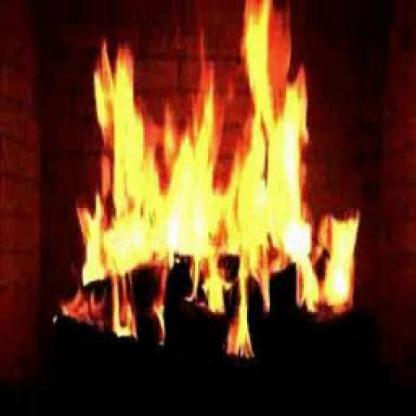fire: (37, 0, 368, 362)
